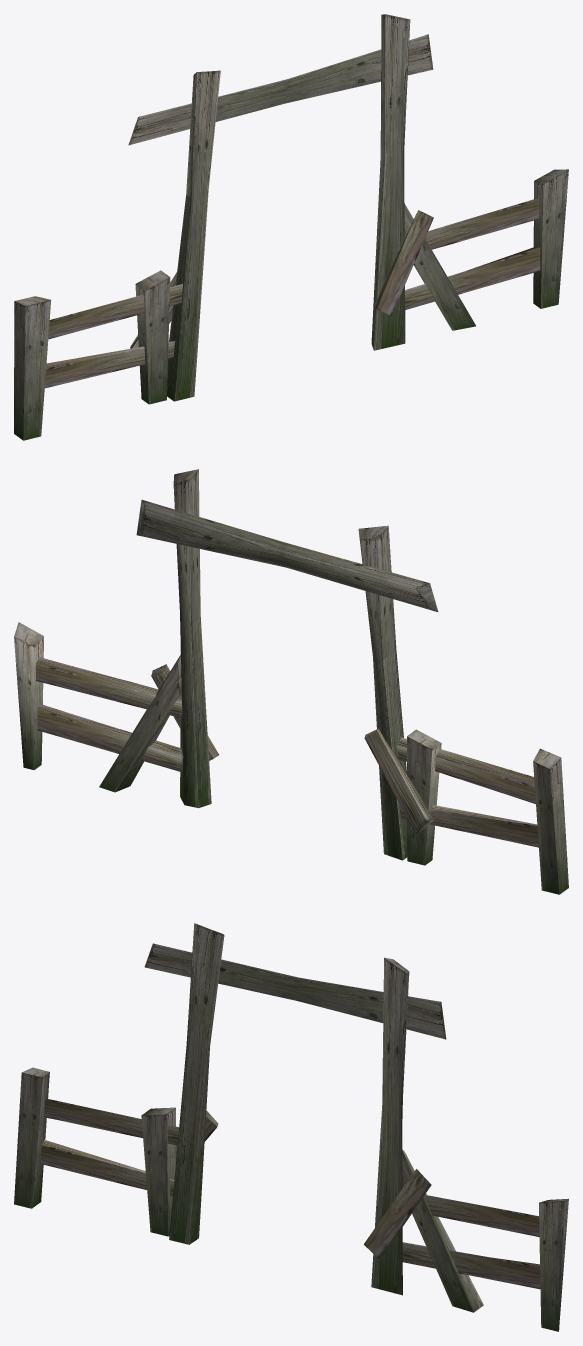
The model's file is pir_m_prp_fnc_woodGate.fbx.
3 renders of one model, top to bottom at view 1: azimuth 30°, elevation 25°; view 2: azimuth 150°, elevation 25°; view 3: azimuth 330°, elevation 25°, orthographic.
Parts seen in each view (by area): view 1: woodpost29, woodpost27, woodpost41, woodpost30, woodpost28, woodpost36, woodpost31, woodpost32, woodpost35, woodpost33, woodpost34, woodpost38; view 2: woodpost41, woodpost27, woodpost29, woodpost30, woodpost31, woodpost35, woodpost28, woodpost32, woodpost36, woodpost34, woodpost33, woodpost37; view 3: woodpost29, woodpost27, woodpost41, woodpost30, woodpost36, woodpost28, woodpost35, woodpost31, woodpost33, woodpost32, woodpost34, woodpost38.
Boxes of the visible parts, x1=… form: woodpost29: x1=167, y1=70, x2=220, y2=401; woodpost27: x1=371, y1=14, x2=410, y2=350; woodpost41: x1=128, y1=34, x2=433, y2=145; woodpost30: x1=14, y1=296, x2=51, y2=440; woodpost28: x1=533, y1=169, x2=568, y2=308; woodpost36: x1=135, y1=270, x2=170, y2=404; woodpost31: x1=405, y1=246, x2=540, y2=309; woodpost32: x1=425, y1=198, x2=538, y2=249; woodpost35: x1=404, y1=204, x2=475, y2=330; woodpost33: x1=45, y1=341, x2=175, y2=388; woodpost34: x1=48, y1=284, x2=182, y2=339; woodpost38: x1=373, y1=210, x2=433, y2=316; woodpost41: x1=136, y1=499, x2=438, y2=611; woodpost27: x1=173, y1=469, x2=211, y2=808; woodpost29: x1=358, y1=525, x2=407, y2=860; woodpost30: x1=533, y1=748, x2=568, y2=894; woodpost31: x1=37, y1=704, x2=183, y2=772; woodpost35: x1=99, y1=654, x2=181, y2=792; woodpost28: x1=14, y1=622, x2=43, y2=769; woodpost32: x1=36, y1=657, x2=182, y2=718; woodpost36: x1=407, y1=729, x2=441, y2=865; woodpost34: x1=396, y1=737, x2=535, y2=803; woodpost33: x1=399, y1=805, x2=538, y2=847; woodpost37: x1=364, y1=728, x2=433, y2=834; woodpost29: x1=169, y1=923, x2=224, y2=1244; woodpost27: x1=371, y1=957, x2=409, y2=1295; woodpost41: x1=144, y1=943, x2=446, y2=1039; woodpost30: x1=14, y1=1067, x2=49, y2=1208; woodpost36: x1=141, y1=1107, x2=175, y2=1236; woodpost28: x1=539, y1=1198, x2=568, y2=1331; woodpost35: x1=402, y1=1149, x2=483, y2=1312; woodpost31: x1=402, y1=1242, x2=540, y2=1289; woodpost33: x1=40, y1=1140, x2=174, y2=1196; woodpost32: x1=424, y1=1195, x2=539, y2=1237; woodpost34: x1=44, y1=1098, x2=178, y2=1145; woodpost38: x1=364, y1=1169, x2=431, y2=1258.
Bounding box in the file's own units: 2358 × 1370 × 150.
1 material, 1 textured.
